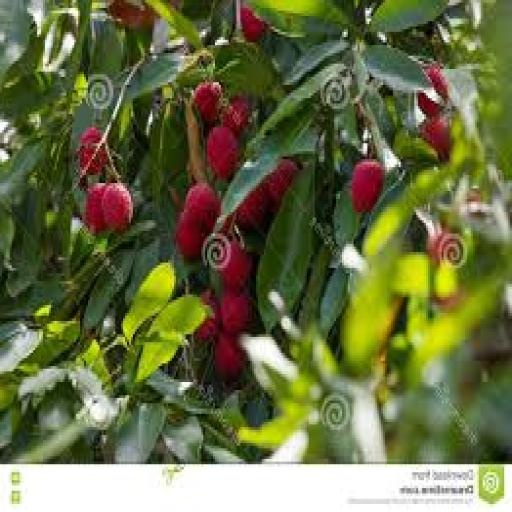lychee: (183, 184, 219, 233), (205, 128, 237, 180), (416, 64, 448, 116), (173, 210, 206, 259), (265, 160, 296, 212), (351, 160, 382, 212), (220, 242, 251, 291), (76, 128, 106, 175), (236, 184, 268, 228), (101, 184, 131, 230), (220, 292, 251, 336), (213, 335, 243, 379), (420, 117, 450, 161), (195, 290, 219, 342), (193, 83, 221, 124), (220, 96, 249, 135), (84, 184, 106, 233), (240, 6, 266, 42)
